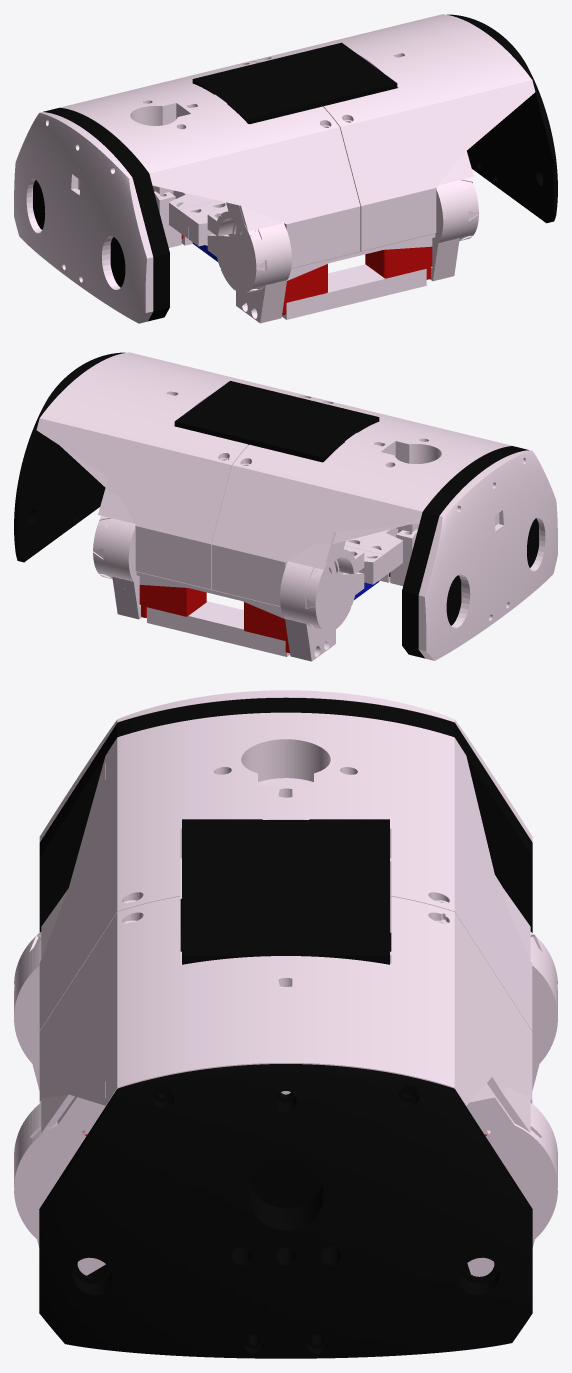
3 views of the same model, one above another, from view 1: azimuth 30°, elevation 25°; view 2: azimuth 150°, elevation 25°; view 3: azimuth 270°, elevation 25° (orthographic). The views are drawn at different scales.
Visible parts, largest first — view 1: cover4.003_Cylinder.028; view 2: cover4.003_Cylinder.028; view 3: cover4.003_Cylinder.028.
Boxes of the visible parts, box(x1,y1,x2,y2) form: cover4.003_Cylinder.028: box(14, 14, 557, 323); cover4.003_Cylinder.028: box(14, 352, 557, 661); cover4.003_Cylinder.028: box(14, 690, 557, 1358).
Bounding box in the file's own units: 0.2645 × 0.1017 × 0.151.
